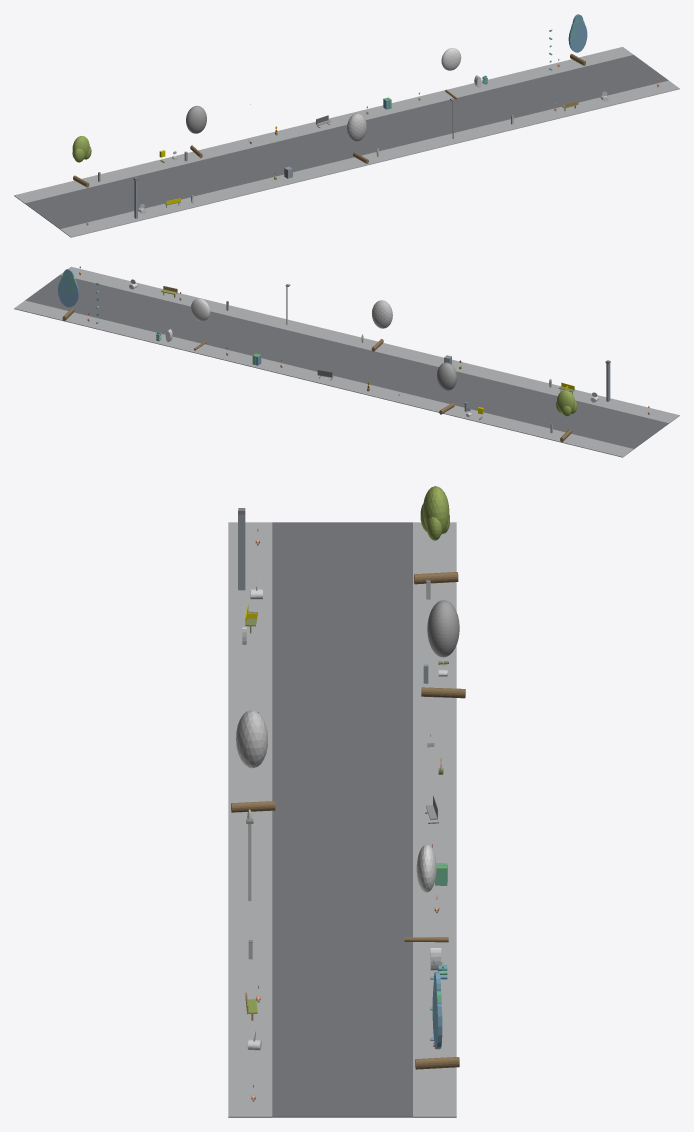
3 renders of one model, top to bottom at view 1: azimuth 30°, elevation 25°; view 2: azimuth 150°, elevation 25°; view 3: azimuth 270°, elevation 25°, orthographic. The views are drawn at different scales.
Visible parts, largest first — view 1: road_slab, sidewalk_left, sidewalk_right, inst_0016, inst_0014, inst_0013, inst_0012, inst_0015; view 2: road_slab, sidewalk_right, sidewalk_left, inst_0016, inst_0014, inst_0013, inst_0012, inst_0015; view 3: road_slab, sidewalk_left, sidewalk_right, inst_0014, inst_0013, inst_0012, inst_0016, inst_0015.
Part boxes in pixels (<box>): road_slab: <box>25,55,668,228</box>; sidewalk_left: <box>60,80,679,237</box>; sidewalk_right: <box>14,47,633,203</box>; inst_0016: <box>568,14,587,65</box>; inst_0014: <box>346,113,368,163</box>; inst_0013: <box>186,105,206,158</box>; inst_0012: <box>72,136,91,187</box>; inst_0015: <box>441,48,461,99</box>; road_slab: <box>25,274,668,448</box>; sidewalk_right: <box>14,300,633,457</box>; sidewalk_left: <box>60,266,679,423</box>; inst_0016: <box>58,269,78,321</box>; inst_0014: <box>371,300,392,351</box>; inst_0013: <box>437,362,456,414</box>; inst_0012: <box>556,390,577,442</box>; inst_0015: <box>191,298,210,350</box>; road_slab: <box>272,522,412,1117</box>; sidewalk_left: <box>228,522,272,1117</box>; sidewalk_right: <box>413,522,456,1117</box>; inst_0014: <box>231,710,275,812</box>; inst_0013: <box>421,600,465,698</box>; inst_0012: <box>414,486,458,584</box>; inst_0016: <box>415,971,459,1069</box>; inst_0015: <box>404,844,448,942</box>.
Size of the model in its own units: 80 by 6.08 by 13.51.
